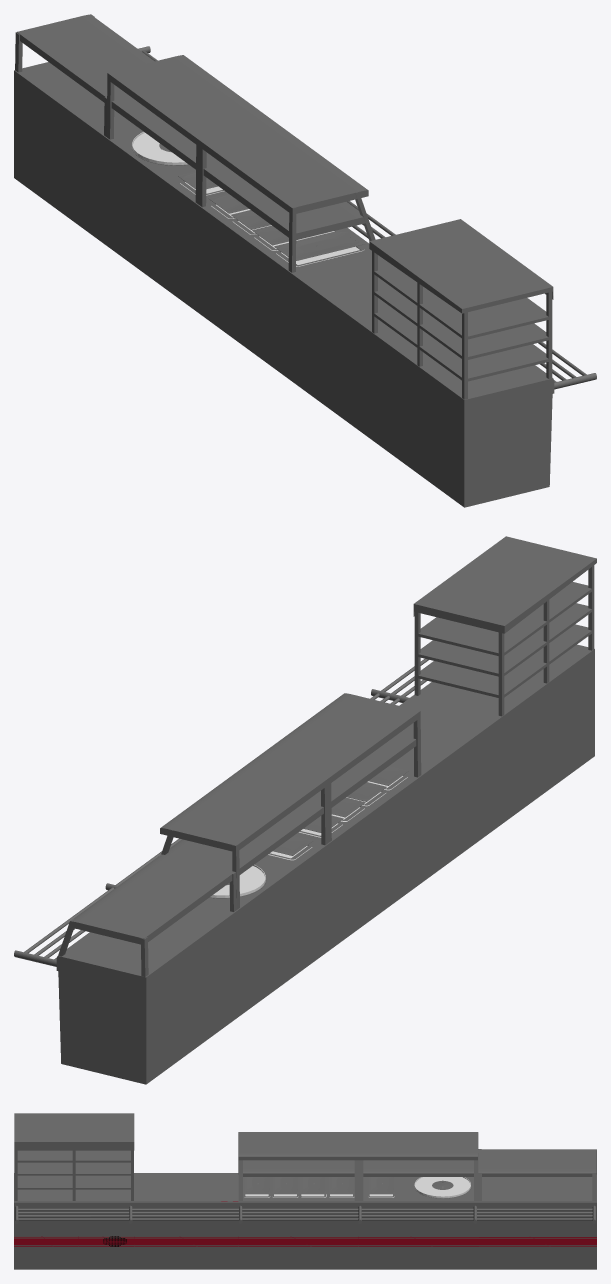
Rendered from canteenCounter.fbx.
3 renders of one model, top to bottom at view 1: azimuth 30°, elevation 25°; view 2: azimuth 150°, elevation 25°; view 3: azimuth 270°, elevation 25°, orthographic. The views are drawn at different scales.
Visible parts, largest first — view 1: Cube, Куб.009, Cube.004, Cube.001, Cube.003, Cube.002, Куб.017, Куб.020, Куб.045, Куб.018, Куб.019, Куб.026 (+2 smaller); view 2: Cube.004, Куб.009, Cube, Cube.001, Cube.003, Cube.002, Куб.020, Куб.045, Куб.017, Куб.019, Куб.018, Цилиндр.003 (+1 smaller); view 3: Cube.004, Cube.001, Куб.009, Cube, Cube.003, Cube.002, Цилиндр.003, Куб.017, Куб.020, Куб.045, Куб.018, Куб.019 (+7 smaller).
Boxes of the visible parts, box(x1,y1,x2,y2) form: Cube: box(371, 328, 554, 507); Куб.009: box(369, 219, 553, 399); Cube.004: box(14, 62, 139, 244); Cube.001: box(291, 253, 391, 438); Cube.003: box(105, 128, 228, 312); Cube.002: box(198, 201, 371, 380); Куб.017: box(199, 122, 368, 214); Куб.020: box(107, 55, 274, 146); Куб.045: box(17, 14, 154, 102); Куб.018: box(203, 161, 365, 239); Куб.019: box(111, 94, 218, 169); Куб.026: box(274, 229, 364, 260); Cube.004: box(56, 902, 236, 1084); Куб.009: box(413, 536, 596, 716); Cube: box(414, 644, 594, 823); Cube.001: box(389, 695, 502, 882); Cube.003: box(203, 834, 329, 1017); Cube.002: box(295, 772, 422, 949); Куб.020: box(160, 761, 327, 851); Куб.045: box(70, 854, 234, 944); Куб.017: box(252, 693, 420, 785); Куб.019: box(165, 800, 323, 874); Куб.018: box(308, 732, 416, 807); Цилиндр.003: box(14, 658, 428, 966); Cube.004: box(479, 1175, 596, 1269); Cube.001: box(134, 1173, 238, 1269); Куб.009: box(14, 1113, 134, 1200); Cube: box(14, 1173, 134, 1269); Cube.003: box(358, 1177, 478, 1269); Cube.002: box(238, 1175, 358, 1269); Цилиндр.003: box(15, 1205, 595, 1223); Куб.017: box(238, 1132, 359, 1160); Куб.020: box(359, 1132, 477, 1160); Куб.045: box(478, 1149, 596, 1176); Куб.018: box(243, 1160, 354, 1176); Куб.019: box(363, 1160, 473, 1176).
Size of the model in its own units: 358 by 502 by 2062.
